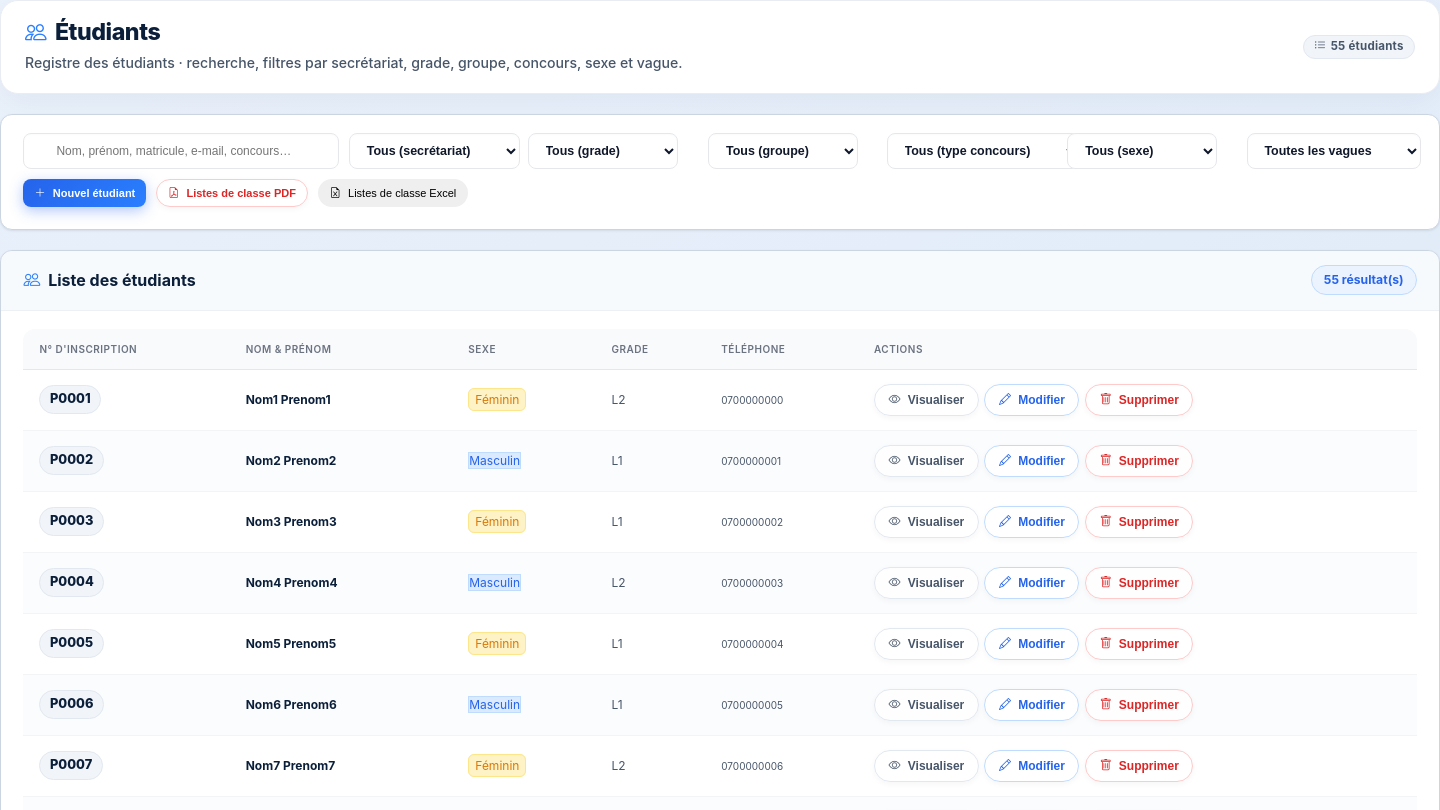
Test: pages/Participants.jsx — liste serveur (LOT 23) › filtre par secrétariat via le menu déroulant et transmet le paramètre
This screenshot has width=1440, height=810.
Expected: the text "55 résultat(s)" is shown, [1311,265,1417,295]
Select "INJS Marcory" in the 1st dropdown. click: (434, 151)
box: [349,133,519,169]
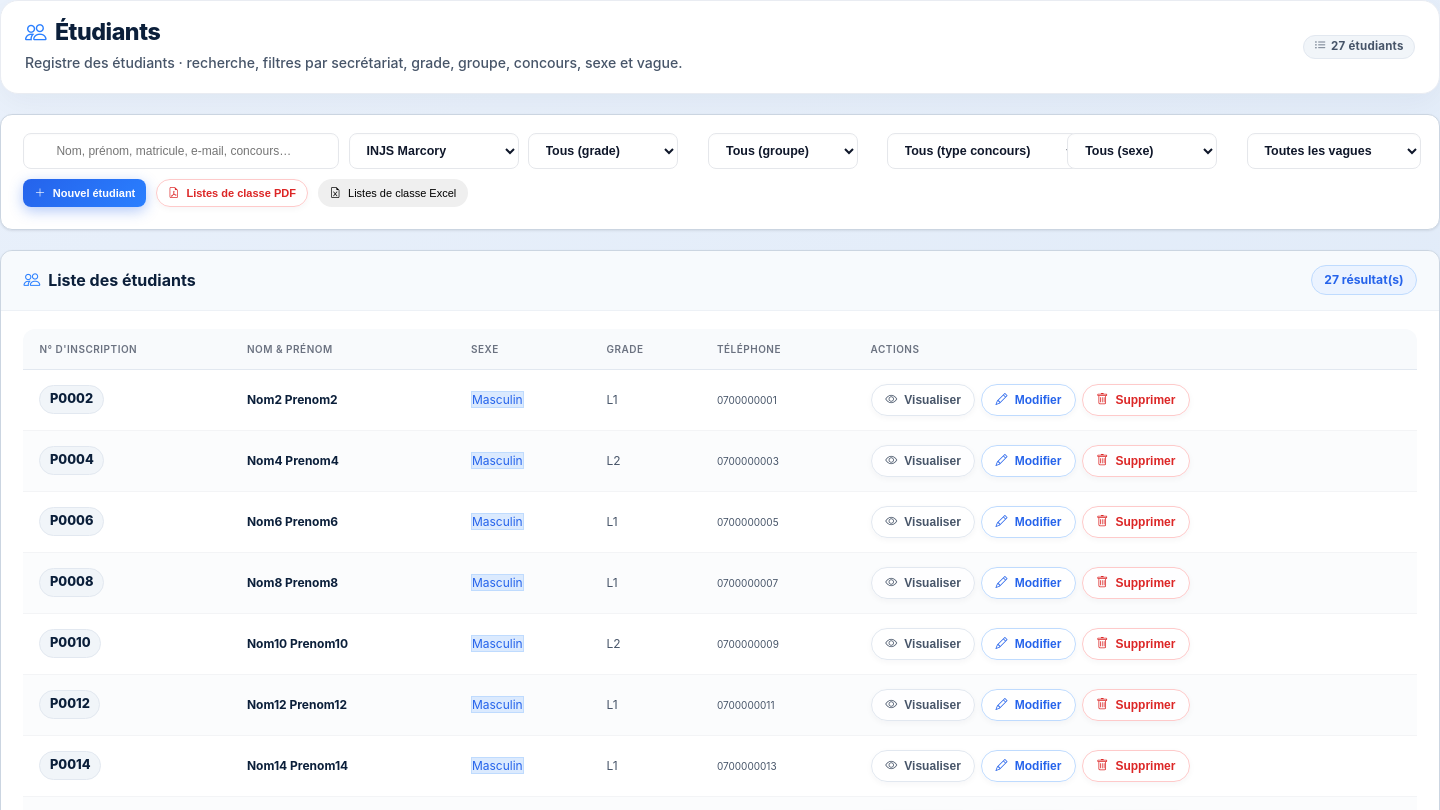
Expected: the text "Nom2 Prenom2" is shown, [247,392,338,407]
Now the text "Nom1 Prenom1" is gone
Now the text "27 résultat(s)" is shown, box [1311,265,1417,295]
